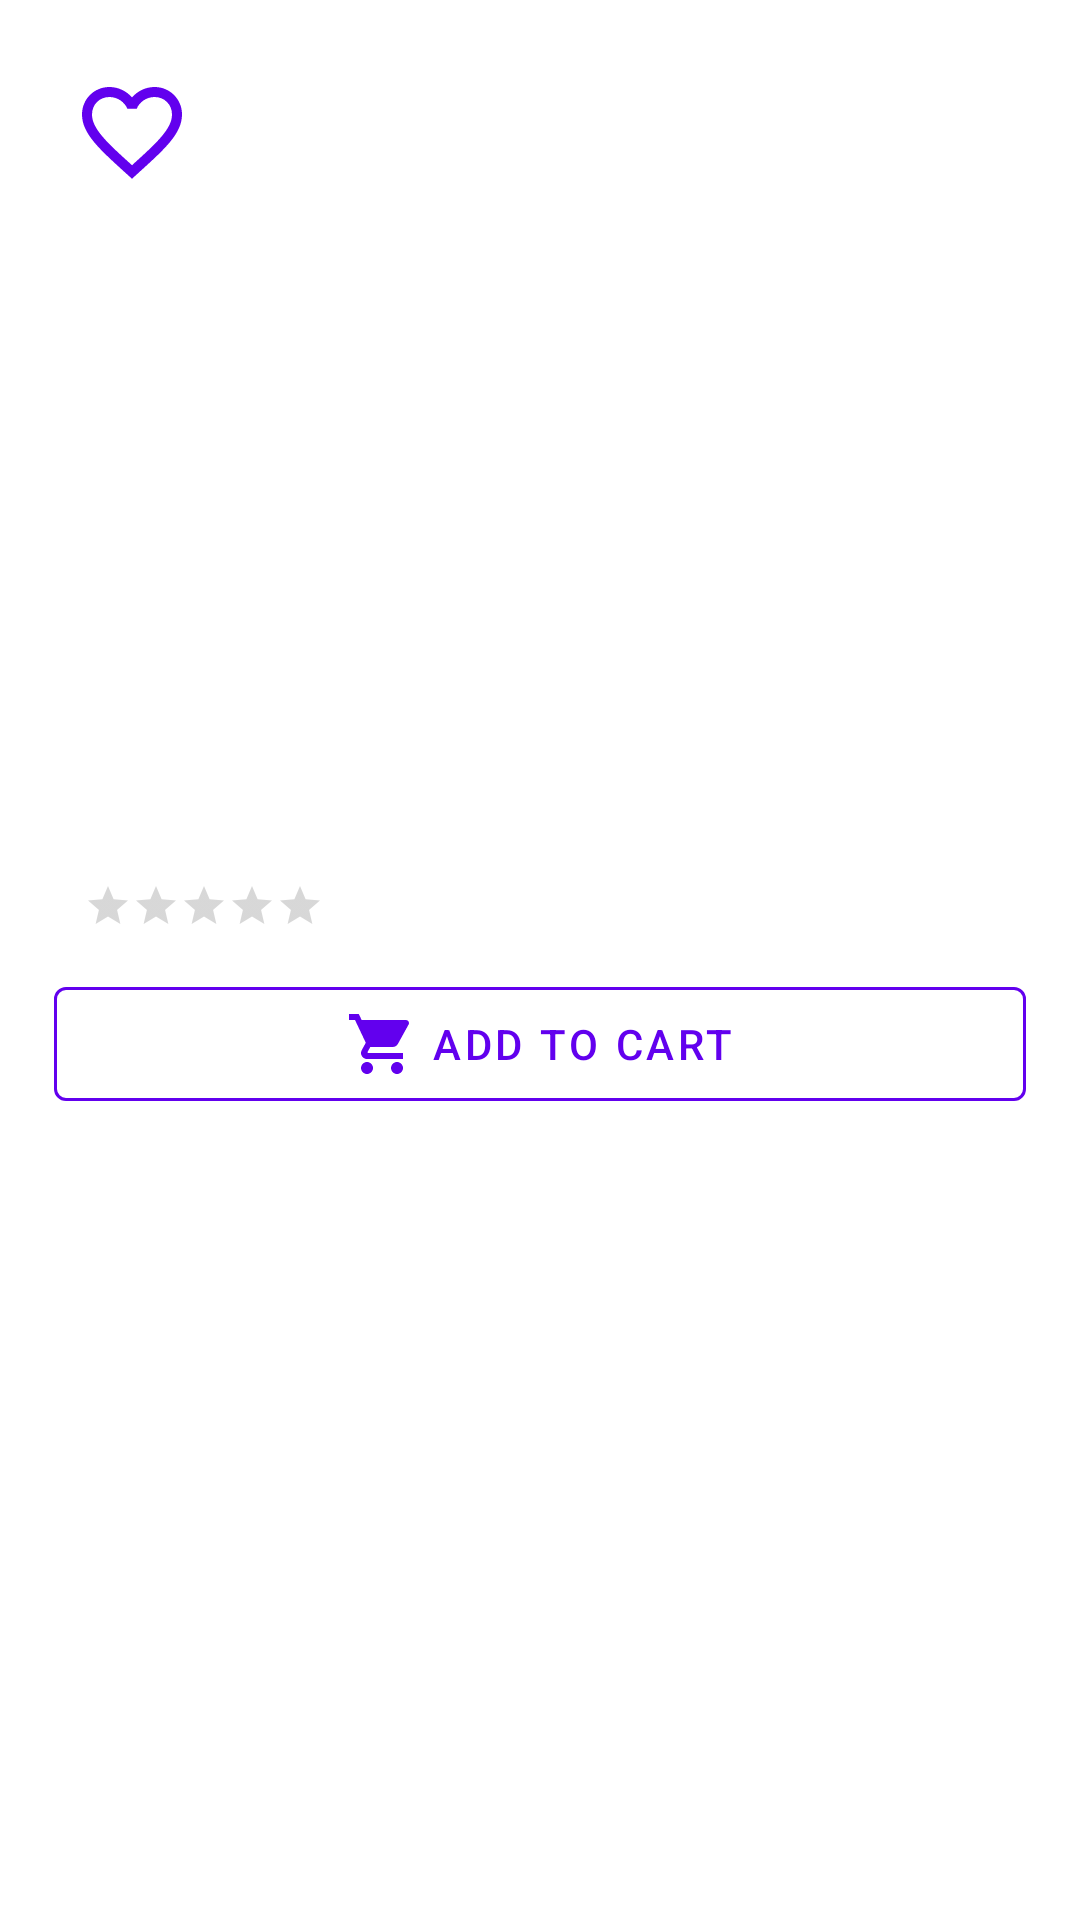

Named icons in this screenshot (1080x1920) and their bounding boxes, box(x1, y1, x2, y2):
Favorite: box(82, 87, 182, 179)
